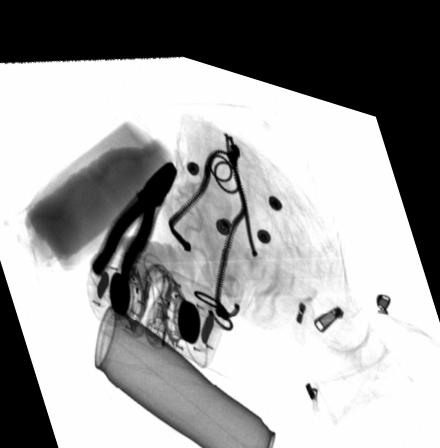Pliers: (90, 148, 179, 278)
